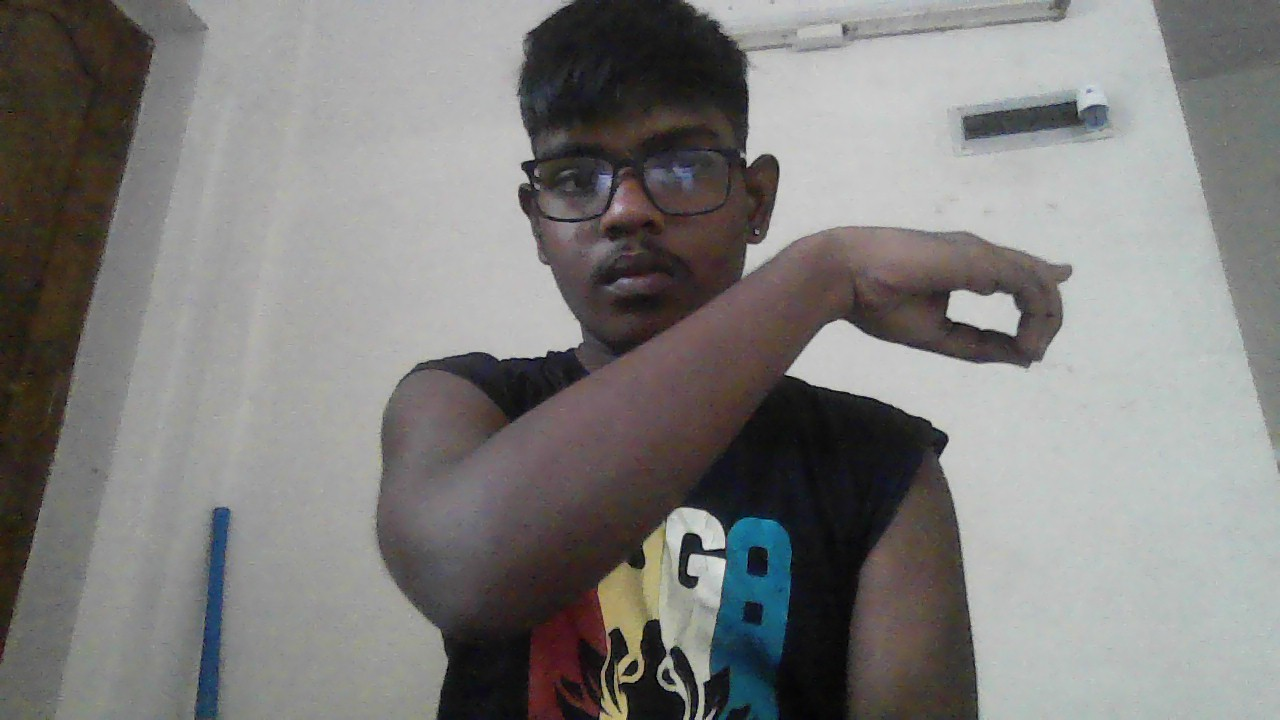P: (808, 225, 1074, 367)
